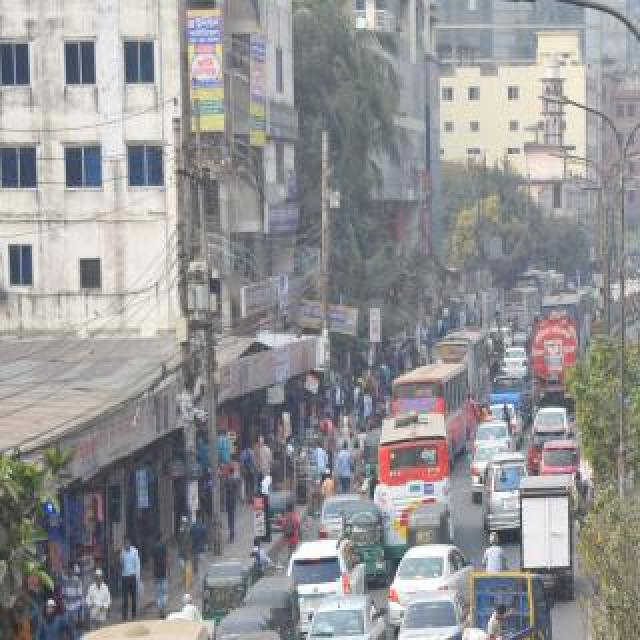bus: (377, 413, 457, 567), (391, 364, 473, 470), (0, 608, 230, 640), (431, 324, 491, 418), (540, 293, 586, 353), (500, 284, 540, 342), (516, 270, 554, 300), (551, 271, 567, 297), (624, 242, 640, 268)
car: (285, 523, 365, 625), (391, 529, 471, 605), (300, 588, 390, 640), (390, 582, 462, 640), (524, 423, 578, 469), (317, 492, 365, 542), (470, 441, 508, 501), (476, 420, 516, 456), (531, 406, 571, 440), (487, 401, 521, 439), (502, 346, 532, 380), (632, 406, 640, 496), (489, 326, 513, 352)
motorbike: (480, 534, 510, 580), (489, 351, 501, 387), (512, 317, 522, 335)
truck: (531, 314, 581, 412)
van: (428, 562, 558, 640), (515, 470, 583, 598), (481, 452, 529, 536), (490, 371, 534, 423)
